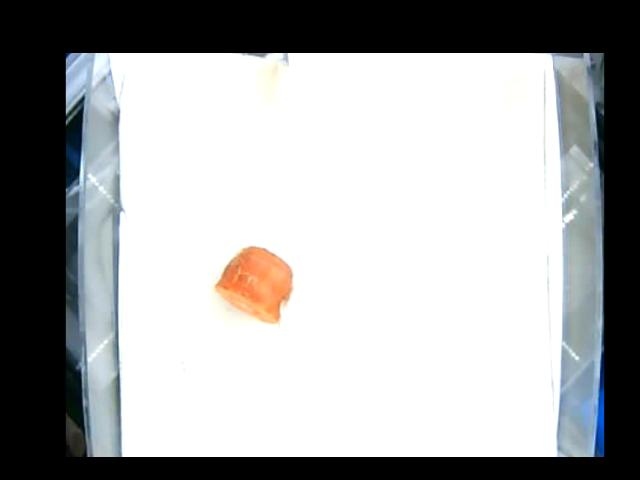Carrot: (215, 245, 294, 319)
